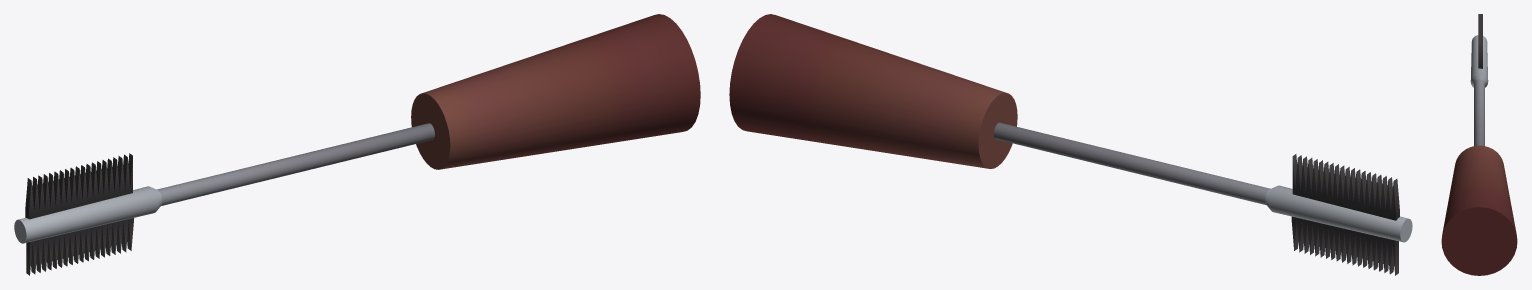
Rendered from eye_lash.fbx.
3 renders of one model, left to right at view 1: azimuth 30°, elevation 25°; view 2: azimuth 150°, elevation 25°; view 3: azimuth 270°, elevation 25°, orthographic. The views are drawn at different scales.
Visible parts, largest first — view 1: eye_lash; view 2: eye_lash; view 3: eye_lash.
Boxes of the visible parts, x1=… form: eye_lash: x1=14, y1=14, x2=700, y2=275; eye_lash: x1=729, y1=14, x2=1412, y2=275; eye_lash: x1=1441, y1=14, x2=1517, y2=275.
Bounding box in the file's own units: 4.05 × 0.6525 × 0.6525.
